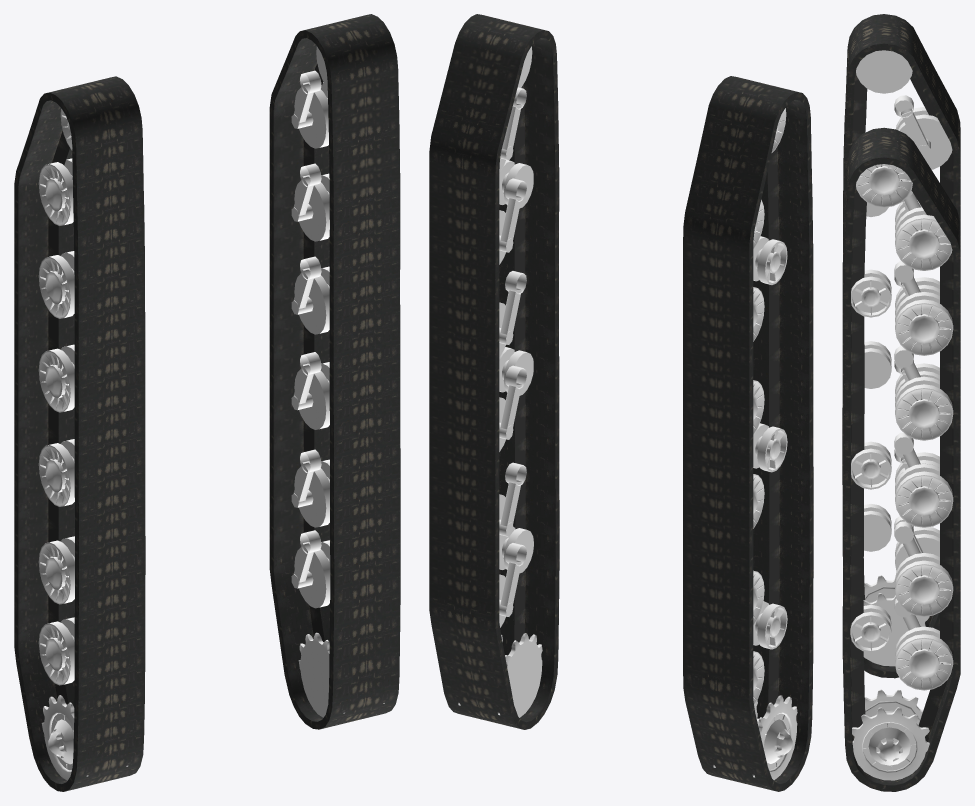
File: Chassis.glb
3 renders of one model, left to right at view 1: azimuth 30°, elevation 25°; view 2: azimuth 150°, elevation 25°; view 3: azimuth 270°, elevation 25°, orthographic. The views are drawn at different scales.
Visible parts, largest first — view 1: set_2_group_0, set_3_group_0, set_0_group_0, set_1_group_0; view 2: set_2_group_0, set_3_group_0, set_0_group_0, set_1_group_0; view 3: set_0_group_0, set_3_group_0, set_1_group_0, set_2_group_0.
Part boxes in pixels (<box>): set_2_group_0: <box>14,76,145,791</box>; set_3_group_0: <box>269,14,400,729</box>; set_0_group_0: <box>291,46,384,717</box>; set_1_group_0: <box>38,108,128,780</box>; set_2_group_0: <box>683,76,813,791</box>; set_3_group_0: <box>429,14,559,729</box>; set_0_group_0: <box>458,46,542,717</box>; set_1_group_0: <box>713,108,797,780</box>; set_0_group_0: <box>850,164,953,780</box>; set_3_group_0: <box>842,127,960,791</box>; set_1_group_0: <box>856,50,952,666</box>; set_2_group_0: <box>842,14,960,678</box>.
Size of the model in its own units: 3.21 by 6.5 by 1.1.
4 materials, 2 textured.
